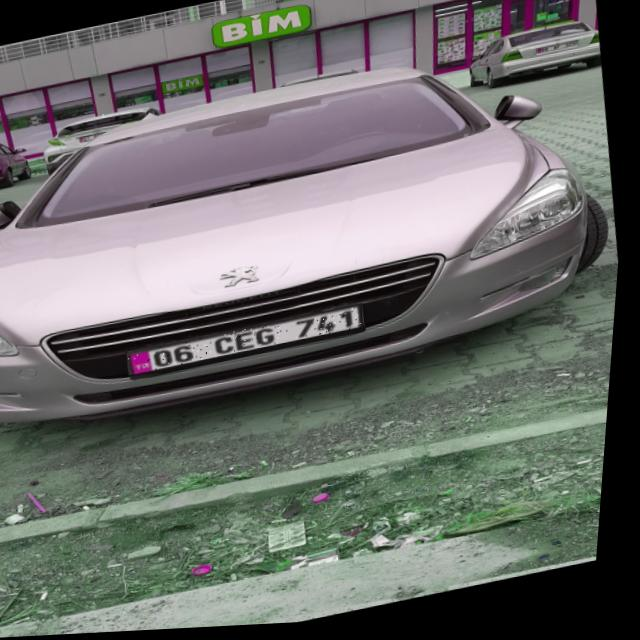license_plate: (131, 309, 369, 377)
